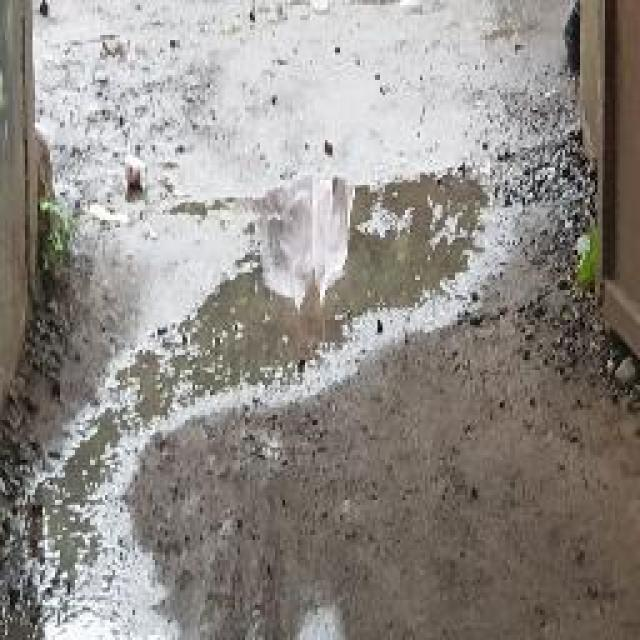stagnation: (79, 190, 562, 348)
